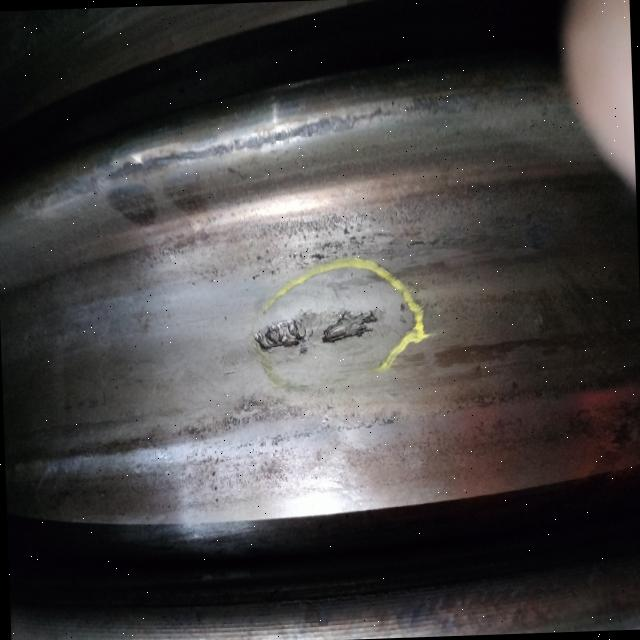Peeling: (257, 306, 384, 362)
flat: (214, 405, 335, 455)
